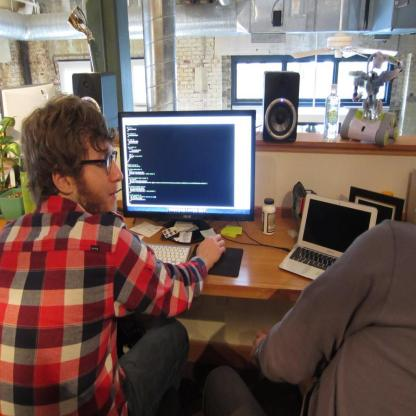board: (116, 109, 262, 238), (278, 193, 378, 281), (323, 83, 341, 140), (262, 198, 277, 236)
